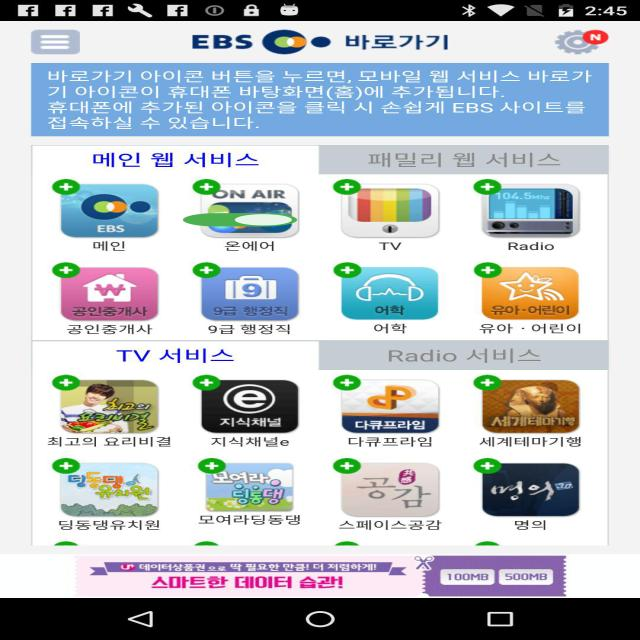social proof: (178, 208, 302, 233)
